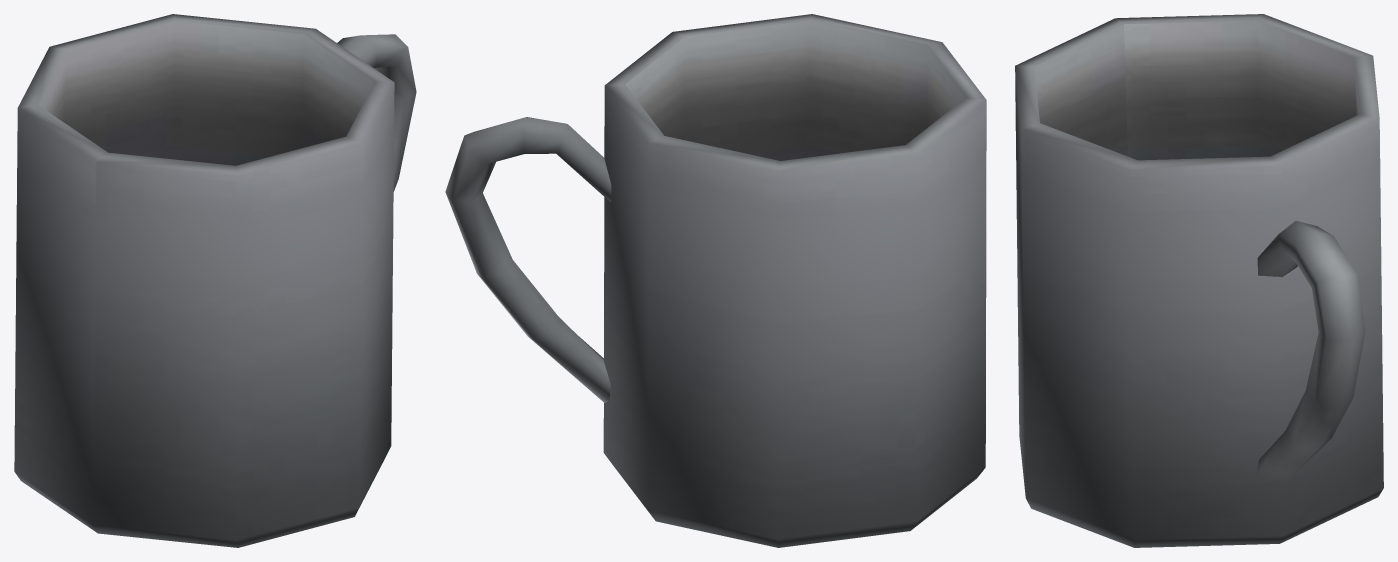
File: CoffeeMug.FBX
3 renders of one model, left to right at view 1: azimuth 30°, elevation 25°; view 2: azimuth 150°, elevation 25°; view 3: azimuth 270°, elevation 25°, orthographic.
Parts seen in each view (by area): view 1: Box117; view 2: Box117; view 3: Box117.
Boxes of the visible parts, box(x1,y1,x2,y2) form: Box117: box(14, 14, 416, 547); Box117: box(445, 14, 986, 547); Box117: box(1015, 14, 1383, 547).
Bounding box in the file's own units: 32.78 × 27.74 × 23.95.
1 material, 1 textured.
